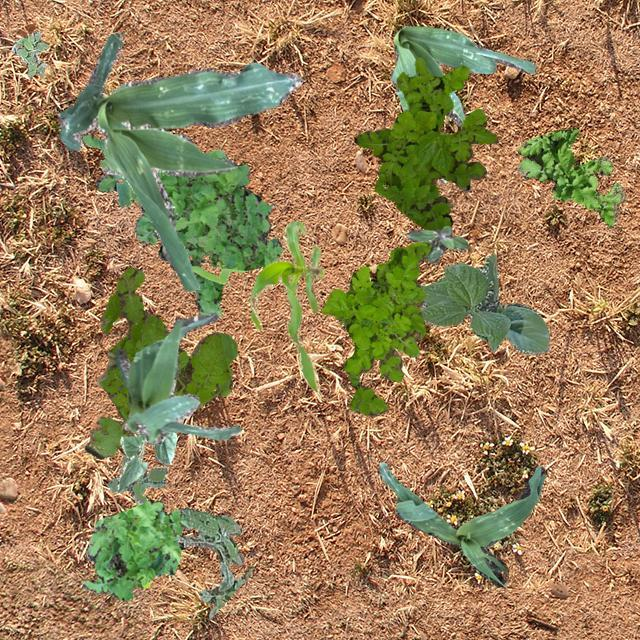crop: (56, 31, 302, 290), (390, 25, 534, 182), (376, 462, 544, 586), (116, 312, 240, 444), (416, 254, 548, 354), (248, 220, 324, 390), (116, 430, 176, 490)
weed: (81, 134, 282, 316), (84, 264, 236, 458), (354, 56, 496, 230), (320, 240, 430, 414), (80, 498, 192, 602), (516, 128, 624, 226), (177, 506, 250, 618), (106, 456, 166, 504), (407, 226, 468, 262), (10, 30, 48, 76)
